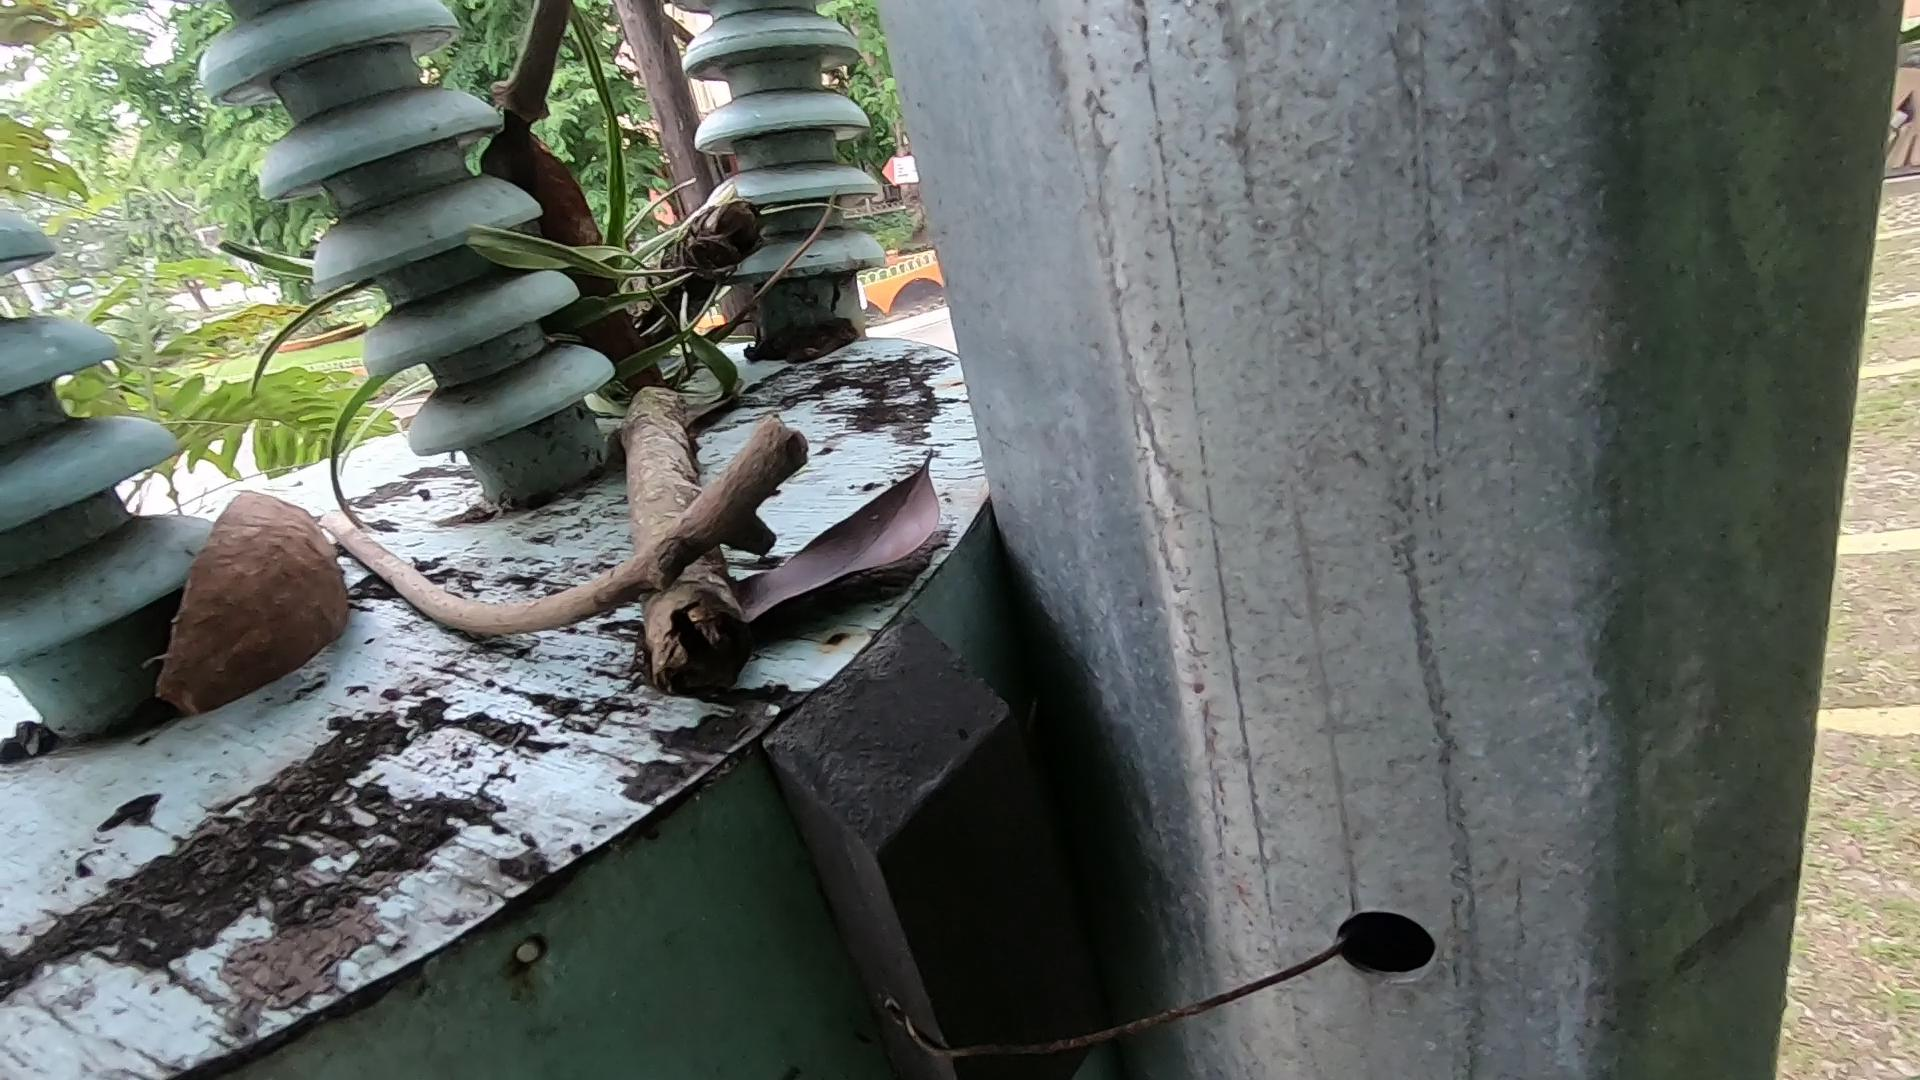branch with leaves: (501, 40, 808, 816)
leaf: (745, 407, 1001, 682)
mahogany fruit: (481, 140, 708, 442), (153, 483, 400, 756)
tree branch: (270, 498, 835, 626), (485, 1, 562, 185)
